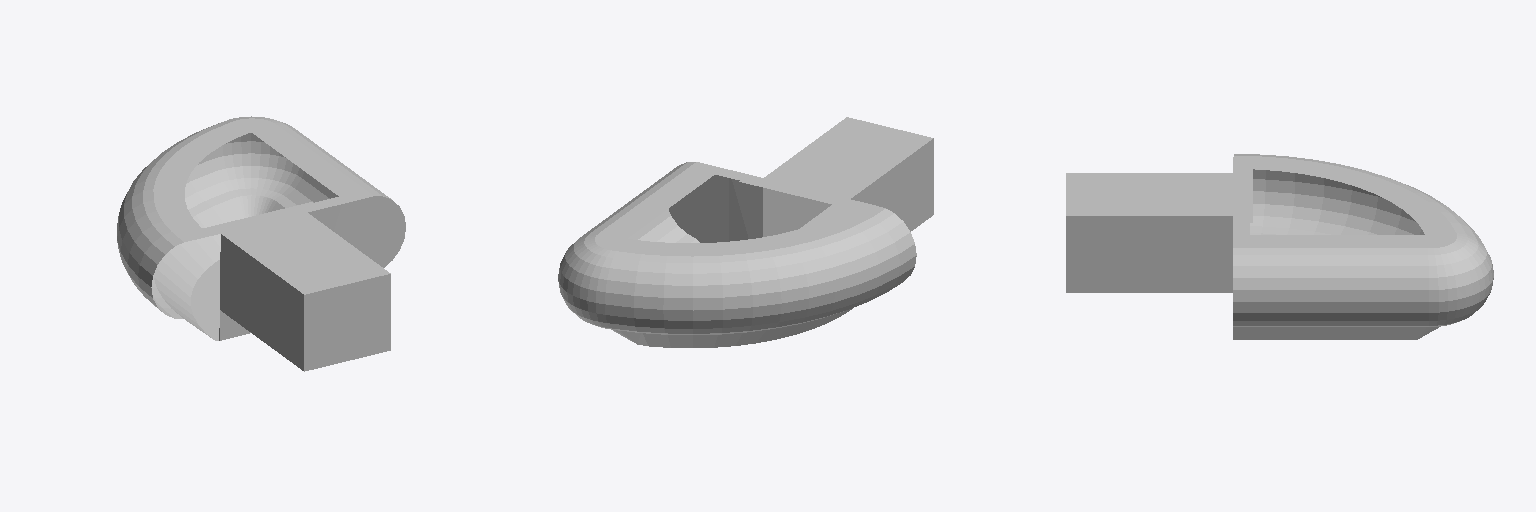
The model's file is original-7.obj.
The picture shows the model from 3 angles: view 1: azimuth 30°, elevation 25°; view 2: azimuth 150°, elevation 25°; view 3: azimuth 270°, elevation 25°; orthographic projection.
Visible parts, largest first — view 1: #ID13; view 2: #ID13; view 3: #ID13.
Part boxes in pixels (left/top/right/bottom): #ID13: left=117, top=116, right=405, bottom=371; #ID13: left=558, top=117, right=933, bottom=347; #ID13: left=1066, top=154, right=1493, bottom=339.
Size of the model in its own units: 0.2514 by 0.1021 by 0.368.